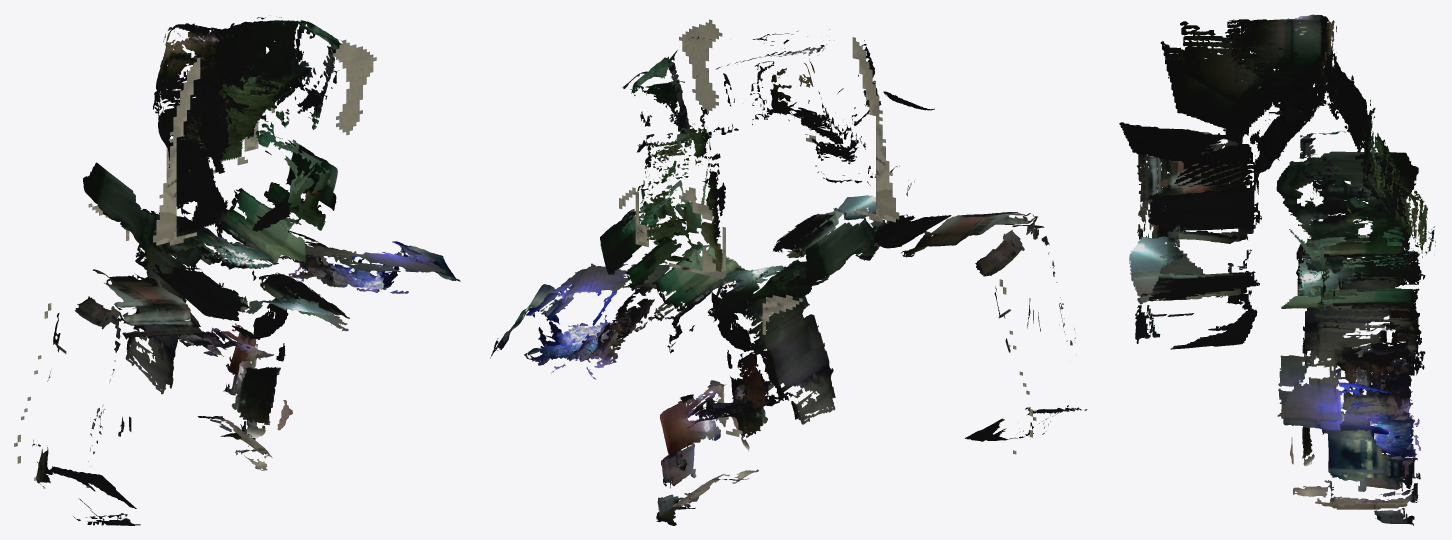
File: bridge_12_sub.glb
3 renders of one model, left to right at view 1: azimuth 30°, elevation 25°; view 2: azimuth 150°, elevation 25°; view 3: azimuth 270°, elevation 25°, orthographic.
Size of the model in its own units: 14.31 by 13.17 by 8.3.
4 materials, 2 textured.
